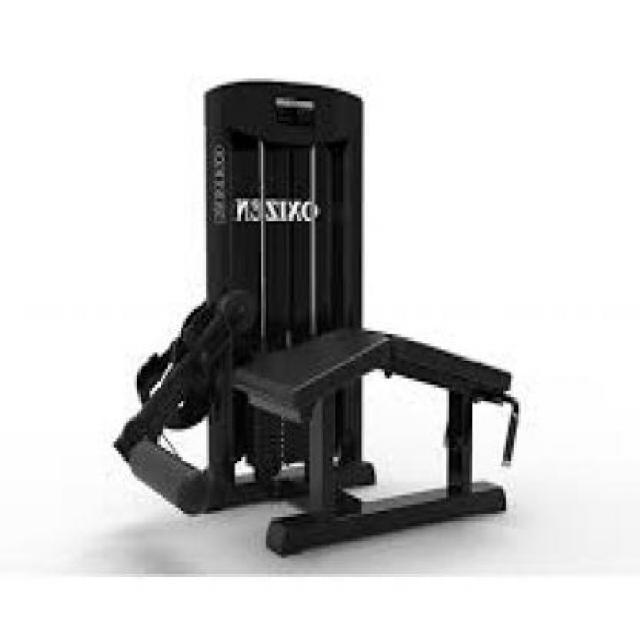reg curl machine: (112, 84, 523, 562)
